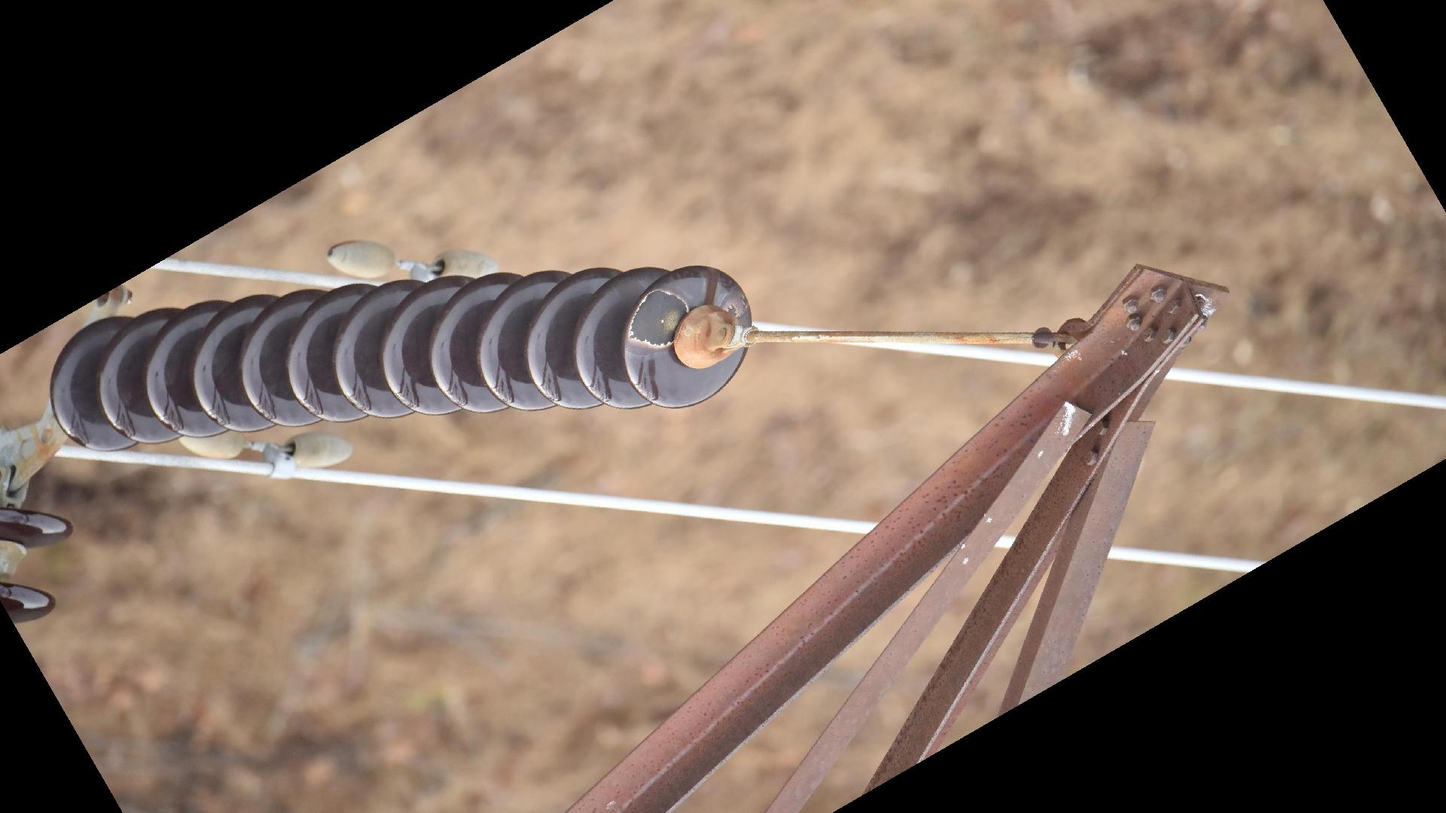insulator: (43, 260, 750, 458), (1, 501, 82, 625)
insulator_flashover: (625, 287, 691, 350), (720, 285, 751, 319)
